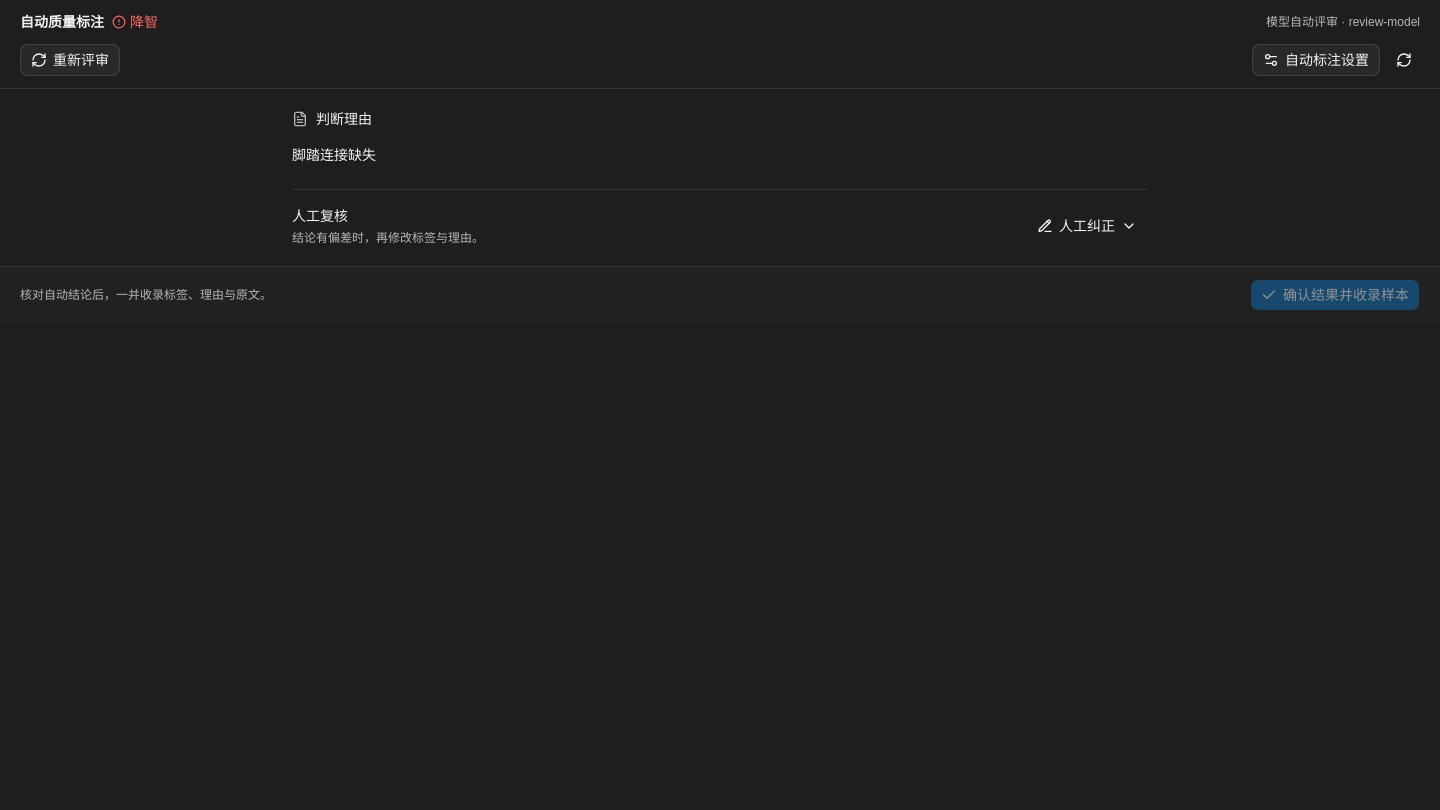
it: 自动评审有理由时优先展示结果，人工纠正默认收起且单项不提供全局导出
Check: the text "脚踏连接缺失" is shown, box x1=292 y1=147 x2=376 y2=163
What coordinates should you click on to do the following:
click the button "人工纠正"
I would click on:
 (1087, 226)
Its box is x1=1026 y1=210 x2=1148 y2=242.
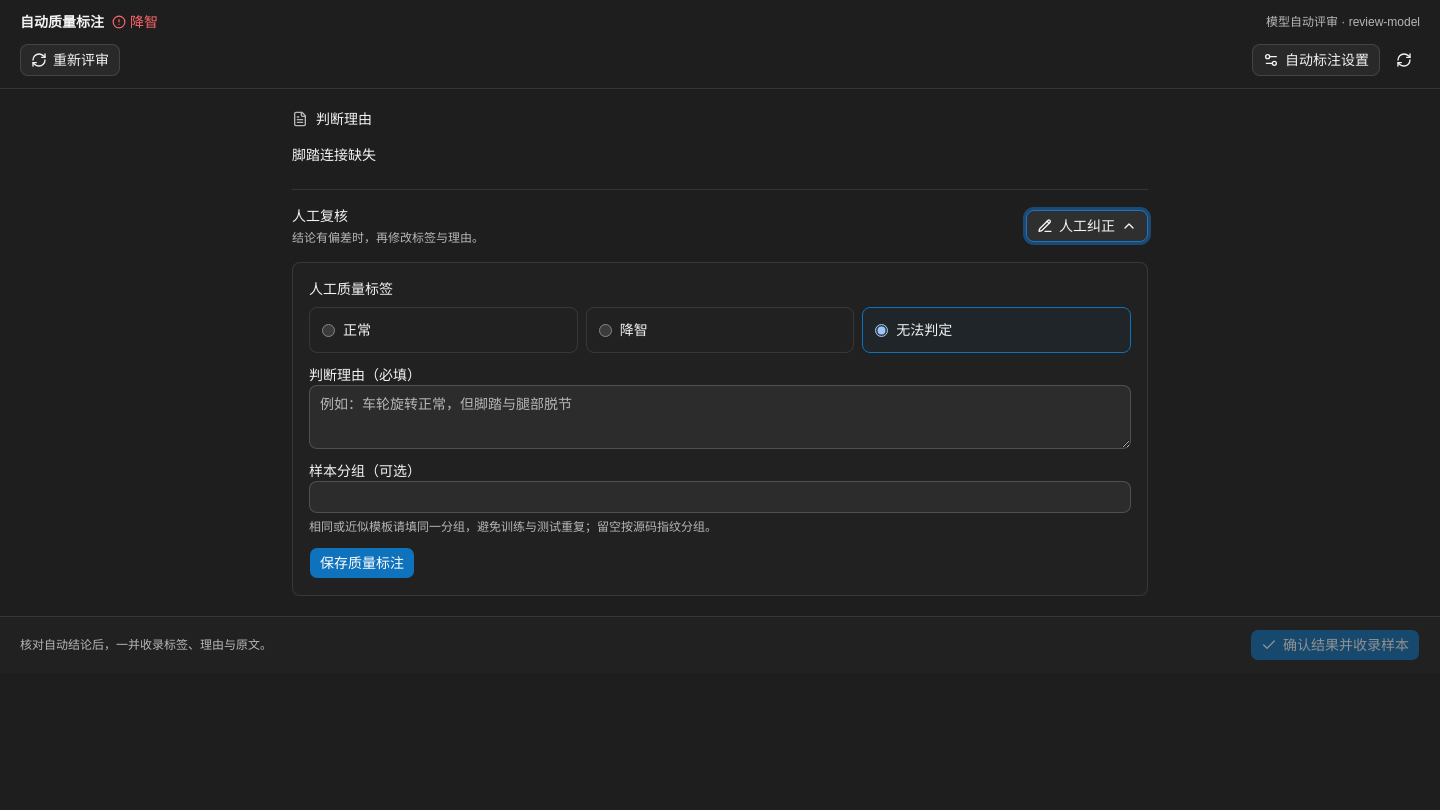
Check: the radio button labelled "无法判定" is checked, box x1=875 y1=324 x2=888 y2=336
Check: the text box labelled "判断理由（必填）" is empty, box x1=309 y1=385 x2=1131 y2=449
